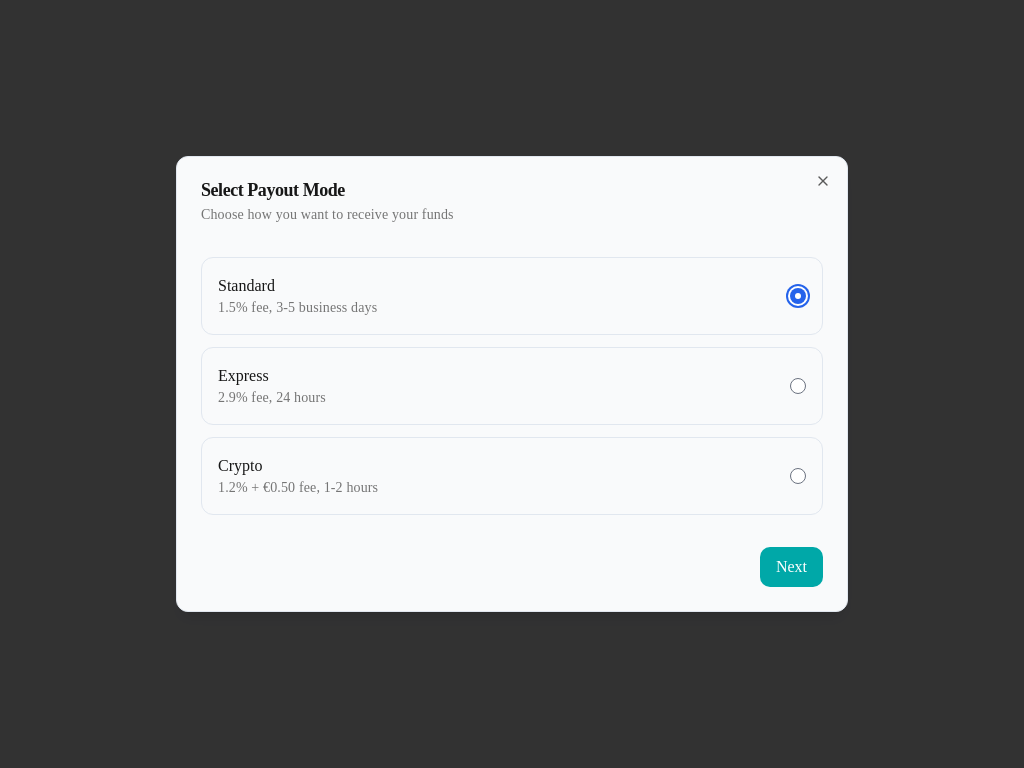
PayoutRequestModal › shows KYC warning when crypto selected without verification
Click the radio button labelled "Crypto 1.2% + €0.50 fee, 1-2 hours": [798, 476] box x1=790 y1=468 x2=806 y2=484
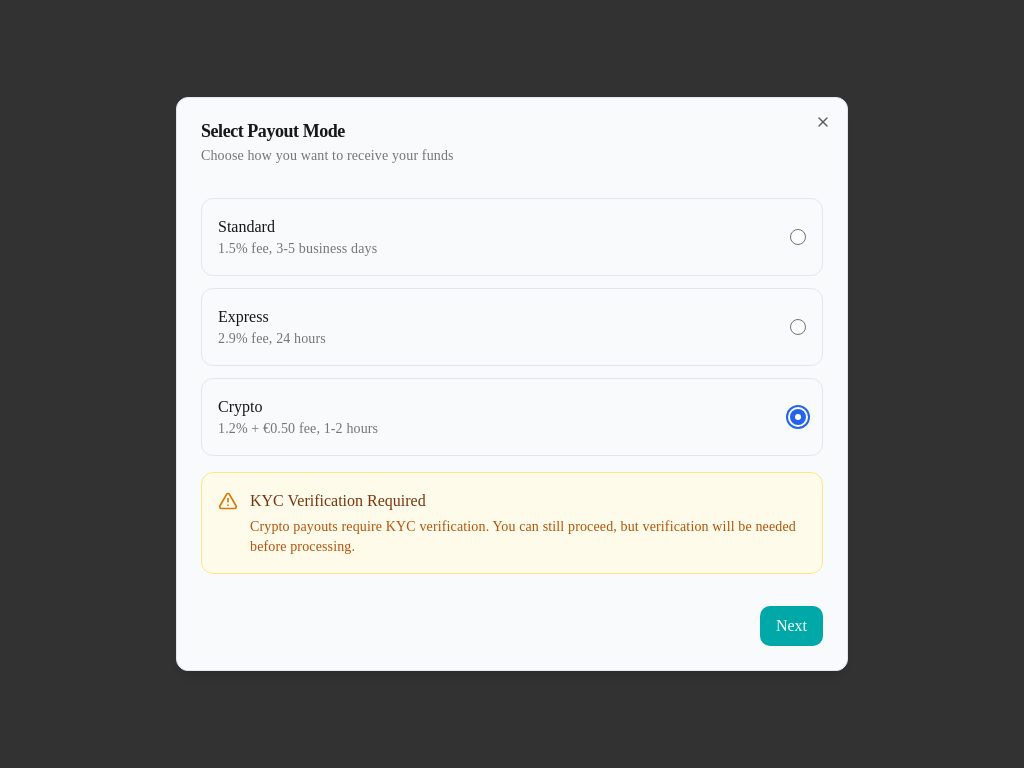
Now the text "KYC Verification Required" is shown, box x1=250 y1=492 x2=426 y2=509
